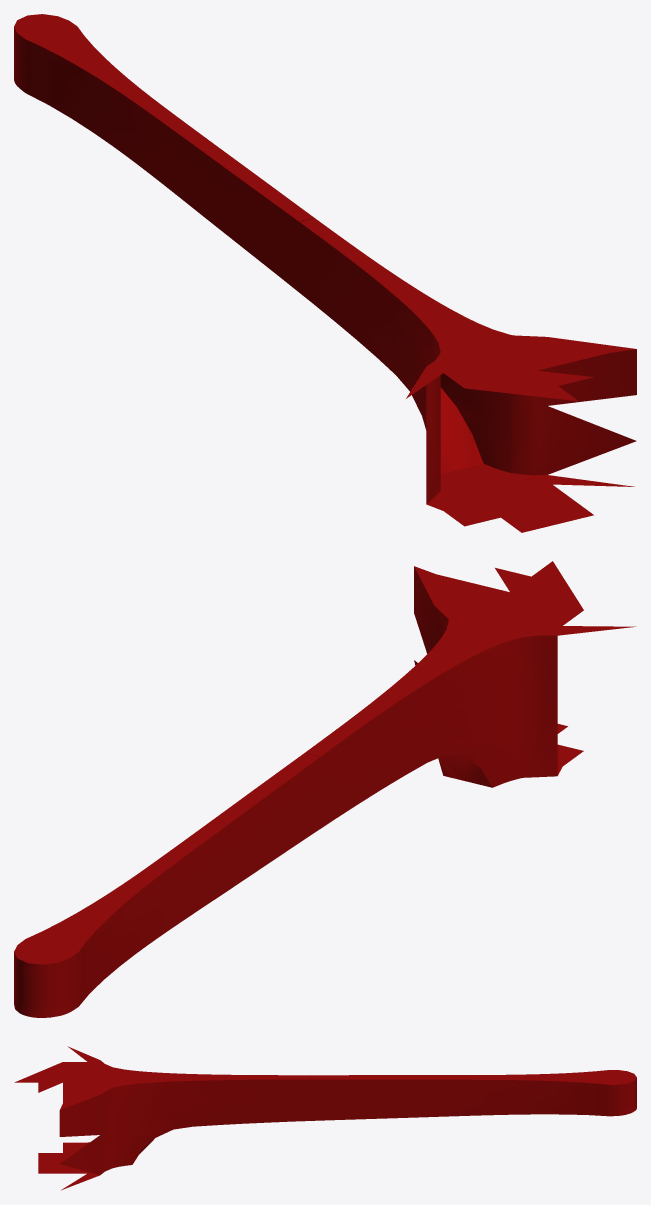
3 views of the same model, one above another, from view 1: azimuth 30°, elevation 25°; view 2: azimuth 150°, elevation 25°; view 3: azimuth 270°, elevation 25° (orthographic). The views are drawn at different scales.
Bounding box in the file's own units: 0.0896 × 0.0525 × 0.3676.
